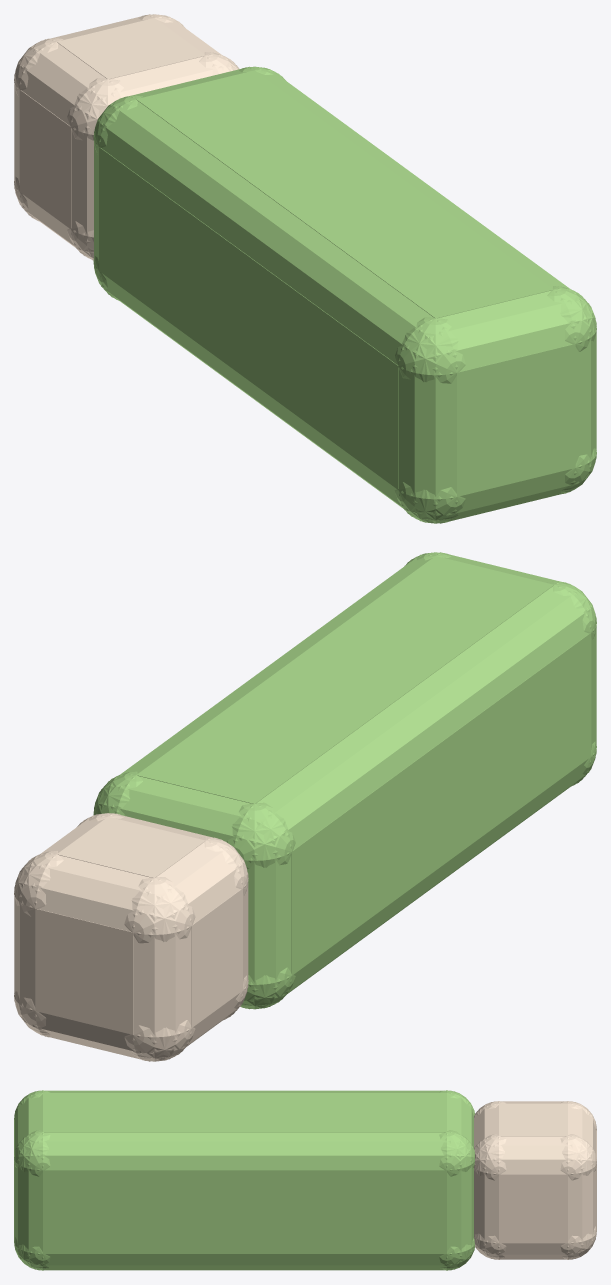
File: arm_right.glb
3 renders of one model, top to bottom at view 1: azimuth 30°, elevation 25°; view 2: azimuth 150°, elevation 25°; view 3: azimuth 270°, elevation 25°, orthographic. The views are drawn at different scales.
Visible parts, largest first — view 1: arm_right_x_visual, arm_right_y_visual, arm_right_edge9_visual, arm_right_z_visual, arm_right_edge5_visual, arm_right_edge3_visual, arm_right_edge8_visual, hand_right_x_visual, hand_right_y_visual, arm_right_edge11_visual, hand_right_edge9_visual, arm_right_edge1_visual (+8 smaller); view 2: arm_right_x_visual, arm_right_y_visual, arm_right_edge9_visual, hand_right_z_visual, hand_right_edge4_visual, hand_right_edge2_visual, arm_right_edge4_visual, arm_right_edge2_visual, hand_right_x_visual, arm_right_edge8_visual, hand_right_y_visual, hand_right_edge9_visual (+11 smaller); view 3: arm_right_x_visual, arm_right_y_visual, arm_right_edge11_visual, arm_right_edge10_visual, hand_right_x_visual, hand_right_edge11_visual, arm_right_edge7_visual, arm_right_edge6_visual, hand_right_edge6_visual, hand_right_y_visual, hand_right_edge7_visual, arm_right_edge3_visual (+10 smaller).
Boxes of the visible parts, box(x1,y1,x2,y2) form: arm_right_x_visual: box(99, 147, 398, 489); arm_right_y_visual: box(136, 70, 553, 318); arm_right_edge9_visual: box(93, 96, 465, 383); arm_right_z_visual: box(457, 344, 575, 496); arm_right_edge5_visual: box(398, 317, 458, 523); arm_right_edge3_visual: box(394, 288, 596, 382); arm_right_edge8_visual: box(93, 261, 465, 522); hand_right_x_visual: box(19, 90, 71, 228); hand_right_y_visual: box(57, 18, 205, 79); arm_right_edge11_visual: box(244, 67, 596, 351); hand_right_edge9_visual: box(14, 38, 123, 138); arm_right_edge1_visual: box(394, 448, 596, 523); arm_right_x_visual: box(291, 633, 591, 975); arm_right_y_visual: box(136, 556, 553, 803); arm_right_edge9_visual: box(227, 582, 596, 868); hand_right_z_visual: box(35, 908, 133, 1034); hand_right_edge4_visual: box(131, 877, 191, 1061); hand_right_edge2_visual: box(14, 853, 195, 941); arm_right_edge4_visual: box(232, 802, 291, 1009); arm_right_edge2_visual: box(93, 774, 295, 867); hand_right_x_visual: box(191, 888, 242, 1027); arm_right_edge8_visual: box(241, 746, 596, 1008); hand_right_y_visual: box(57, 816, 205, 877); hand_right_edge9_visual: box(124, 837, 248, 943); arm_right_x_visual: box(43, 1170, 446, 1253); arm_right_y_visual: box(43, 1093, 446, 1132); arm_right_edge11_visual: box(14, 1132, 474, 1171); arm_right_edge10_visual: box(14, 1237, 474, 1270); hand_right_x_visual: box(499, 1174, 567, 1243); hand_right_edge11_visual: box(474, 1136, 596, 1175); arm_right_edge7_visual: box(14, 1130, 50, 1270); arm_right_edge6_visual: box(439, 1130, 473, 1270); hand_right_edge6_visual: box(560, 1134, 596, 1259); hand_right_y_visual: box(499, 1103, 567, 1136); hand_right_edge7_visual: box(474, 1134, 506, 1259); arm_right_edge3_visual: box(14, 1090, 50, 1176).
Bounding box in the file's own units: 0.091 × 0.091 × 0.3535.
